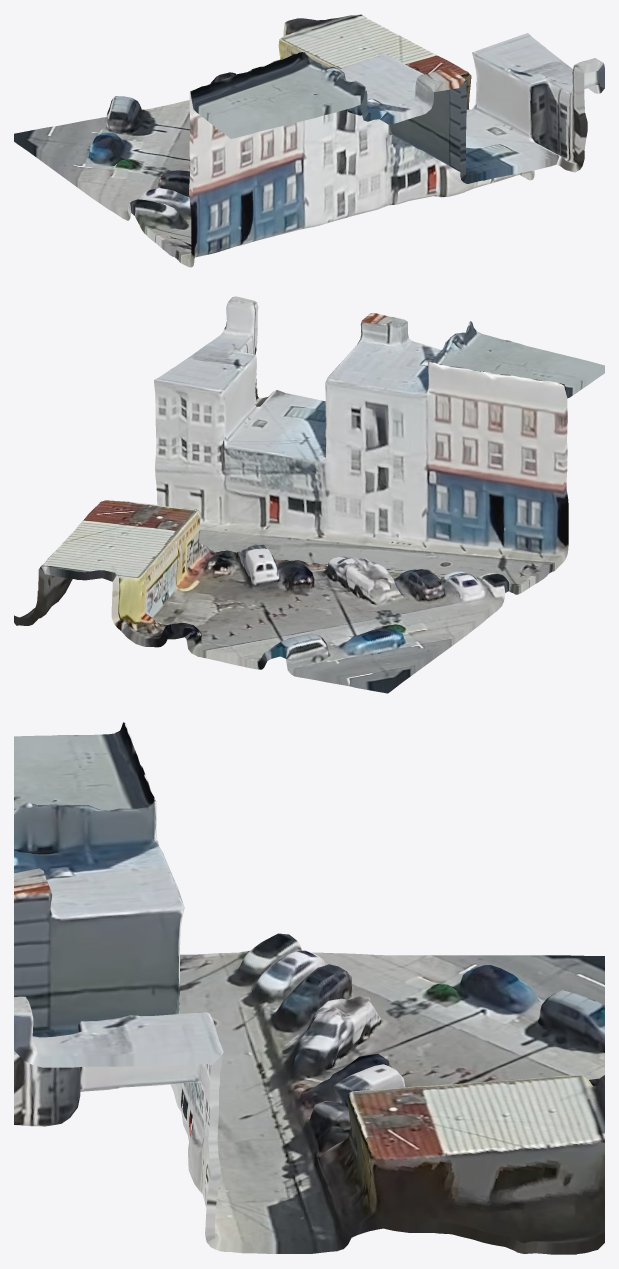
The model's file is z20-167738-405198-h0-yup-uvflip-v3-world.glb.
3 renders of one model, top to bottom at view 1: azimuth 30°, elevation 25°; view 2: azimuth 150°, elevation 25°; view 3: azimuth 270°, elevation 25°, orthographic. The views are drawn at different scales.
Size of the model in its own units: 30.16 by 16.44 by 30.32.
1 material, 1 textured.
